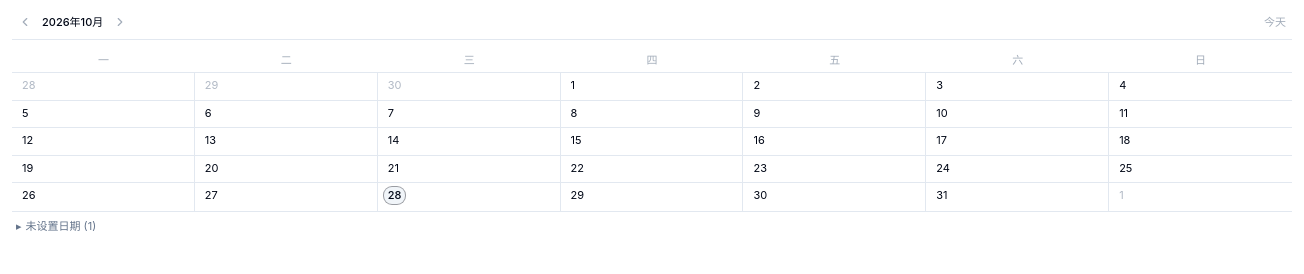
Test: TaskCalendar 格子信息 › 未设置日期的任务进底部折叠区
Click the button "▸ 未设置日期 (1)".
click(57, 226)  # box top-left (12, 212), bottom-right (1292, 240)
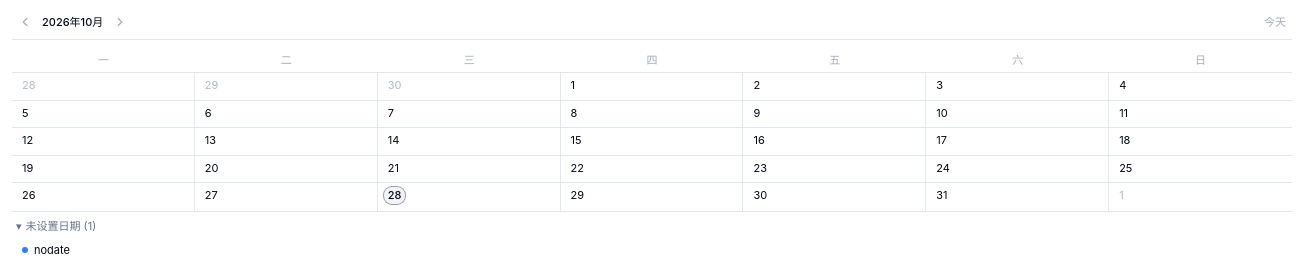
Expected: the text "nodate" is shown, top-left (34, 243), bottom-right (70, 257)
